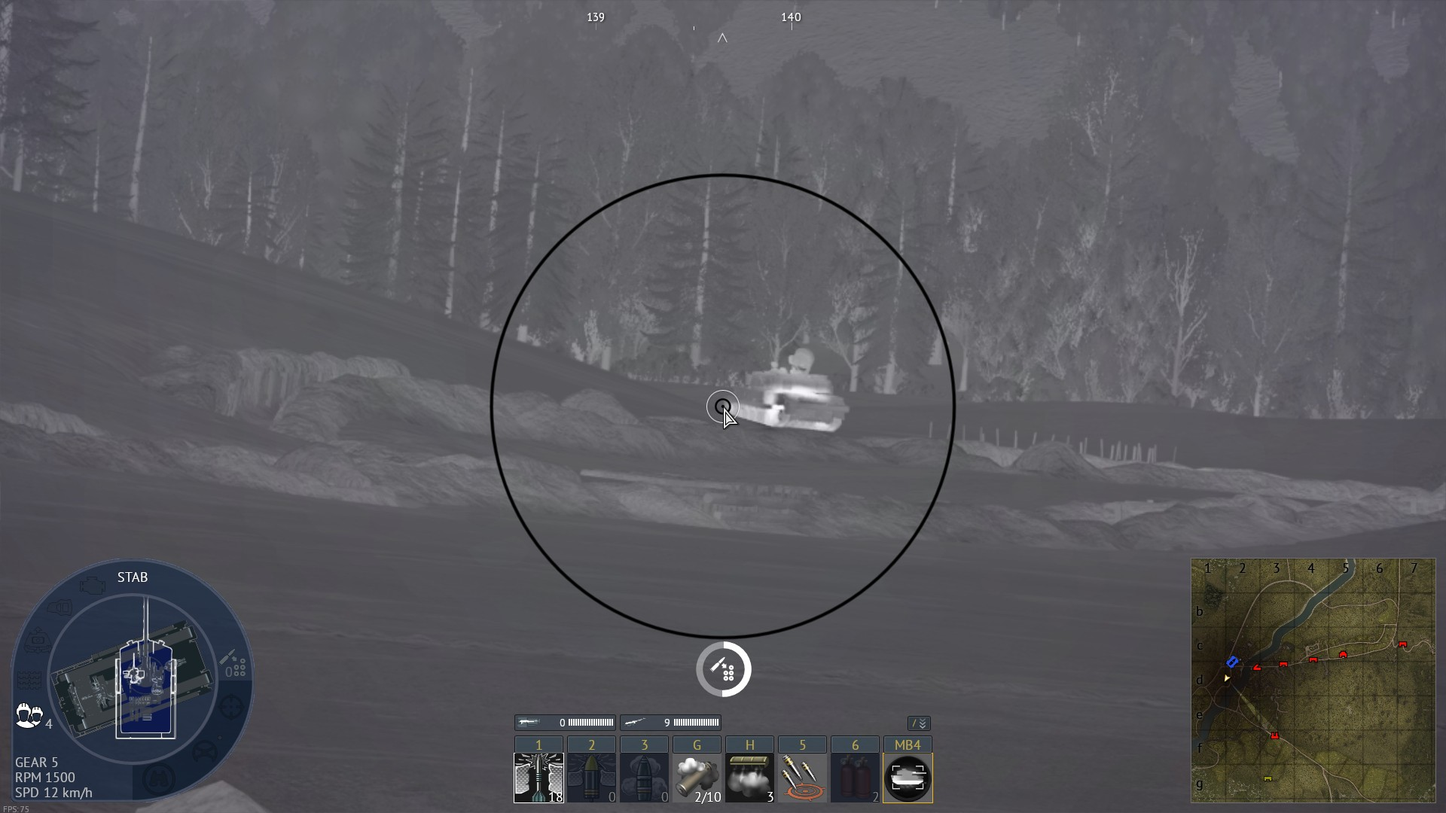spaa_zsu-23: (724, 348, 851, 432)
